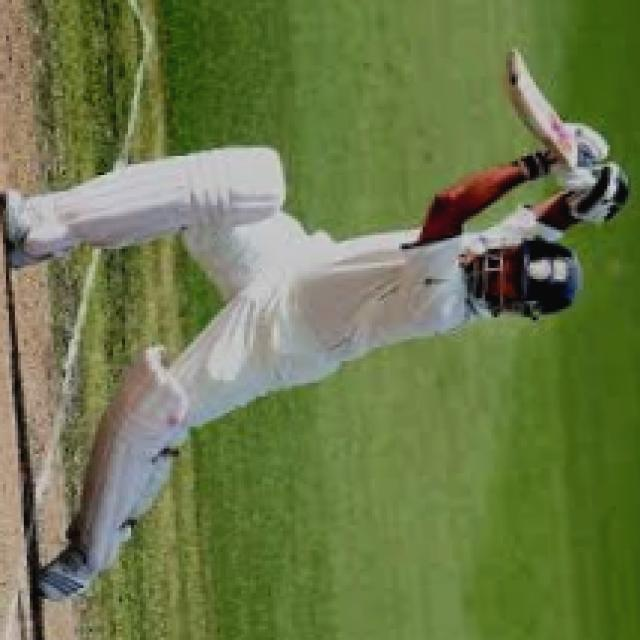bat: (489, 40, 601, 171)
toe: (500, 44, 524, 94)
